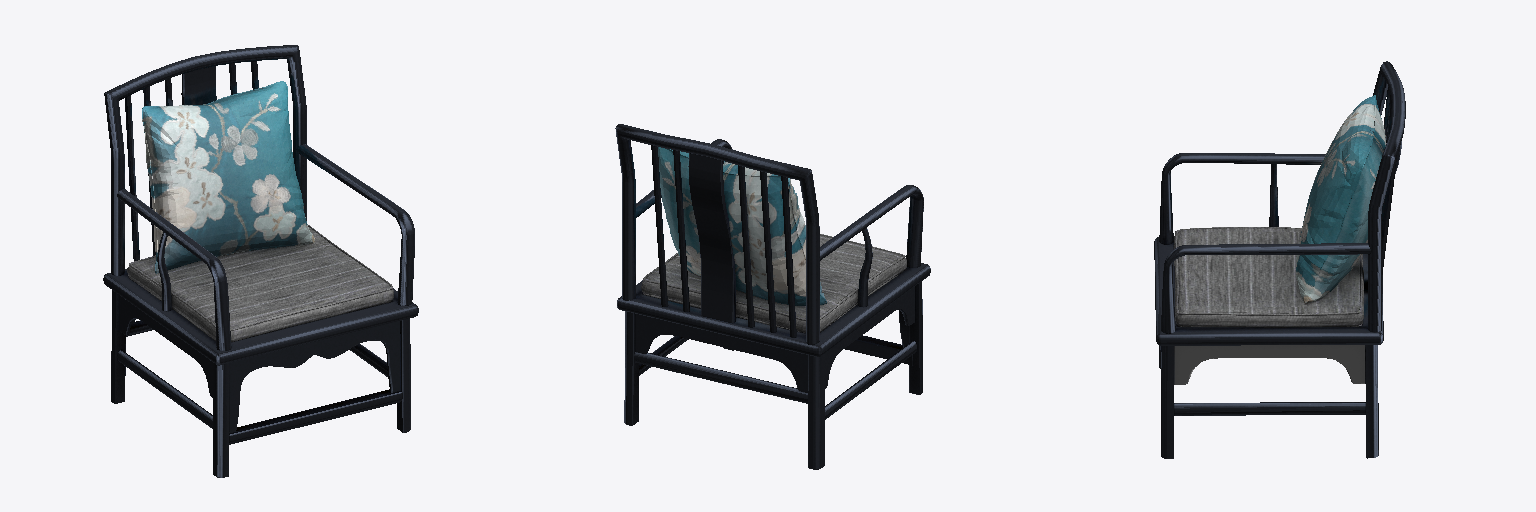
3 renders of one model, left to right at view 1: azimuth 30°, elevation 25°; view 2: azimuth 150°, elevation 25°; view 3: azimuth 270°, elevation 25°, orthographic.
Parts seen in each view (by area): view 1: solid_001, solid_002, solid_003; view 2: solid_001, solid_002, solid_003; view 3: solid_001, solid_003, solid_002, solid_004.
Part boxes in pixels (x1,y1,x2,y2): solid_001: (103,45,418,477); solid_002: (142,81,314,273); solid_003: (127,225,393,341); solid_001: (615,124,930,469); solid_002: (658,147,826,305); solid_003: (641,234,906,332); solid_001: (1154,61,1405,458); solid_003: (1174,227,1363,327); solid_002: (1296,95,1386,303); solid_004: (1174,345,1365,384).
Size of the model in its own units: 0.5662 by 0.8143 by 0.5967.
1 materials, 1 textured.